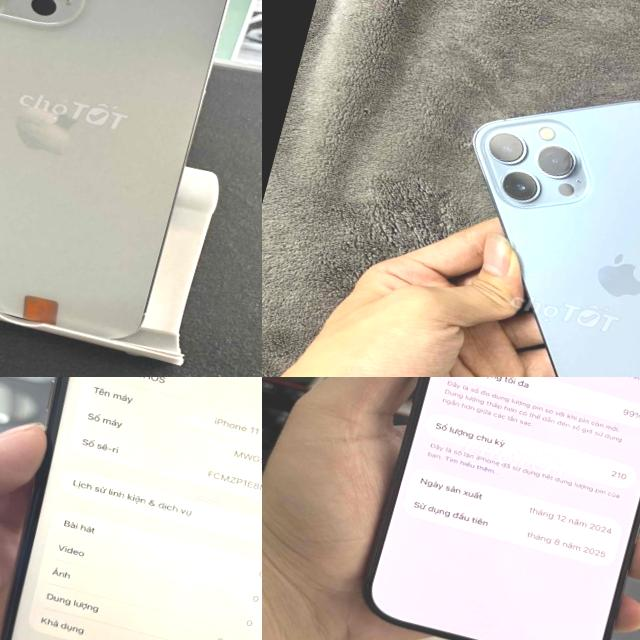gen_11: (0, 377, 262, 640)
gen_12_13: (396, 51, 640, 377)
gen_15: (0, 0, 262, 361)
gen_16: (363, 377, 640, 640)
